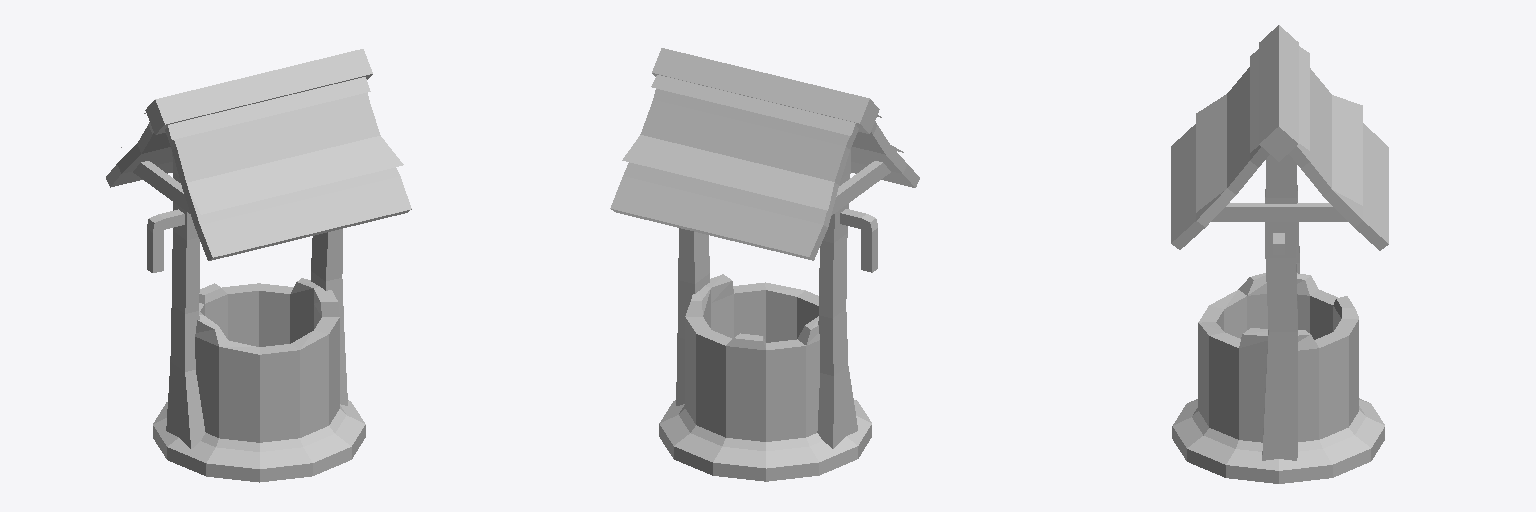
The model's file is well_01.obj.
3 views of the same model, side by side, from view 1: azimuth 30°, elevation 25°; view 2: azimuth 150°, elevation 25°; view 3: azimuth 270°, elevation 25° (orthographic).
Visible parts, largest first — view 1: polySurface1; view 2: polySurface1; view 3: polySurface1.
Part boxes in pixels (x1,y1,x2,y2): polySurface1: (106,49,411,482); polySurface1: (610,48,919,481); polySurface1: (1171,25,1388,483).
Bounding box in the file's own units: 3.07 × 4.98 × 2.71.